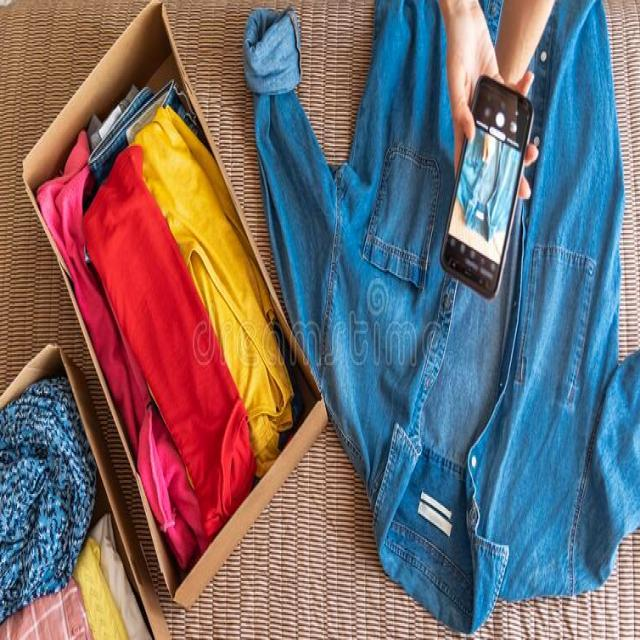clothes: (247, 13, 452, 573), (437, 0, 607, 628), (58, 134, 240, 486), (536, 343, 640, 570), (0, 420, 95, 640)
